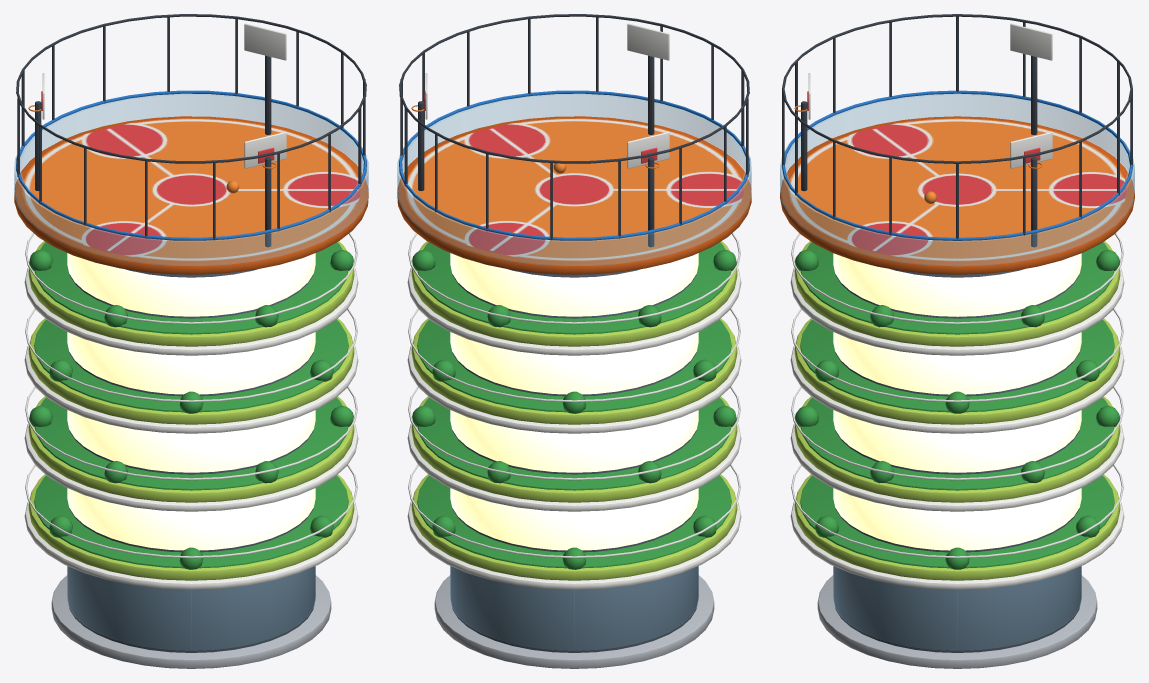
Rendered from torre_basquete.glb.
3 renders of one model, left to right at view 1: azimuth 30°, elevation 25°; view 2: azimuth 150°, elevation 25°; view 3: azimuth 270°, elevation 25°, orthographic.
Parts seen in each view (by area): view 1: torre_basquete; view 2: torre_basquete; view 3: torre_basquete.
Boxes of the visible parts, bbox=[...] form: torre_basquete: bbox=[14, 14, 368, 668]; torre_basquete: bbox=[397, 14, 751, 668]; torre_basquete: bbox=[780, 14, 1134, 668].
Size of the model in its own units: 13.2 by 21.65 by 13.2.
Materials: 4 (2 with a texture image).
